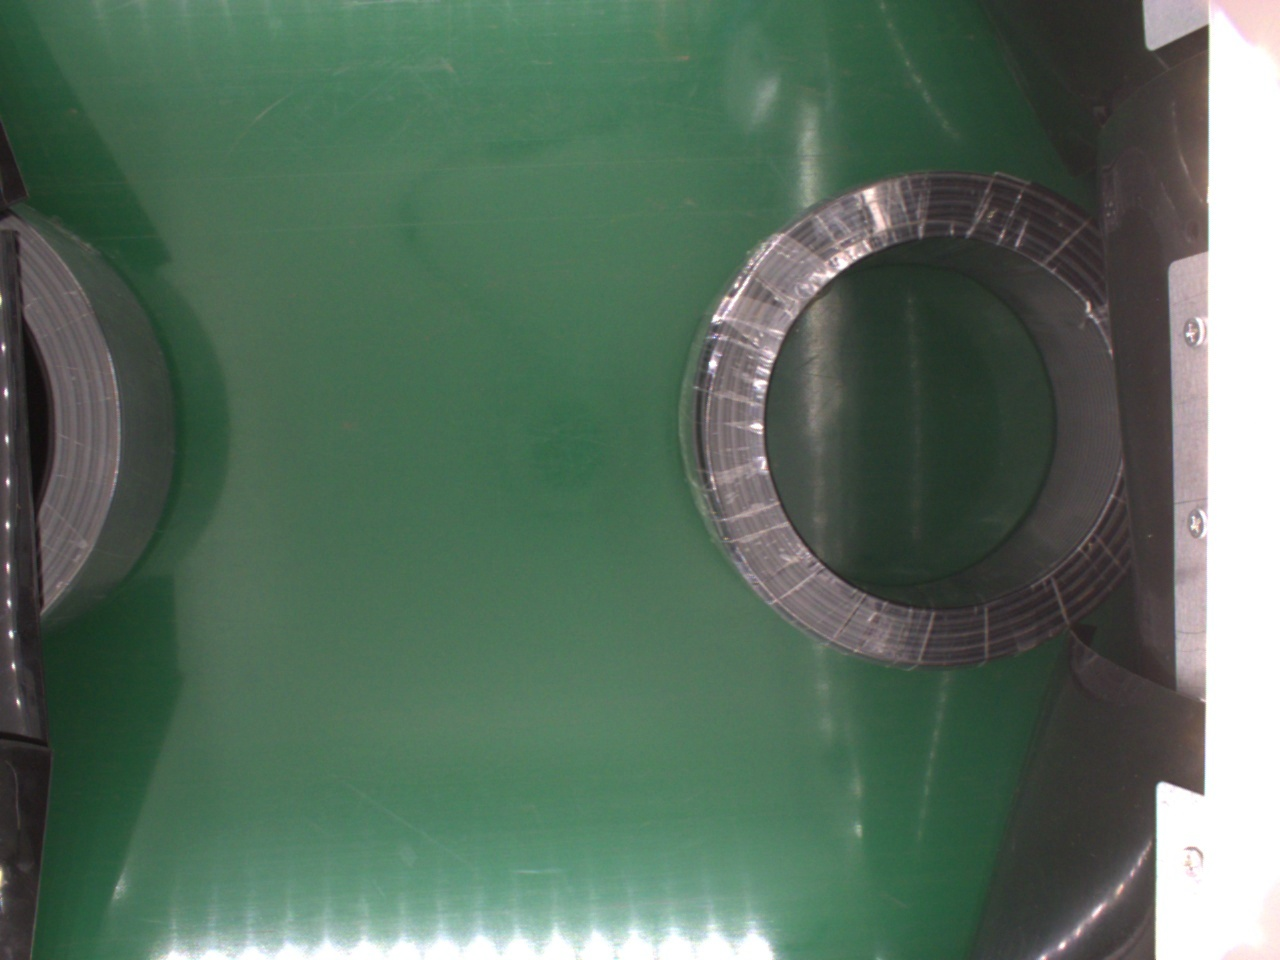black: (676, 169, 1163, 664), (17, 208, 179, 626)
